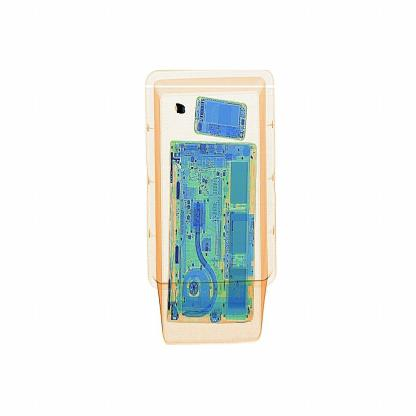wrench: (170, 87, 187, 126)
